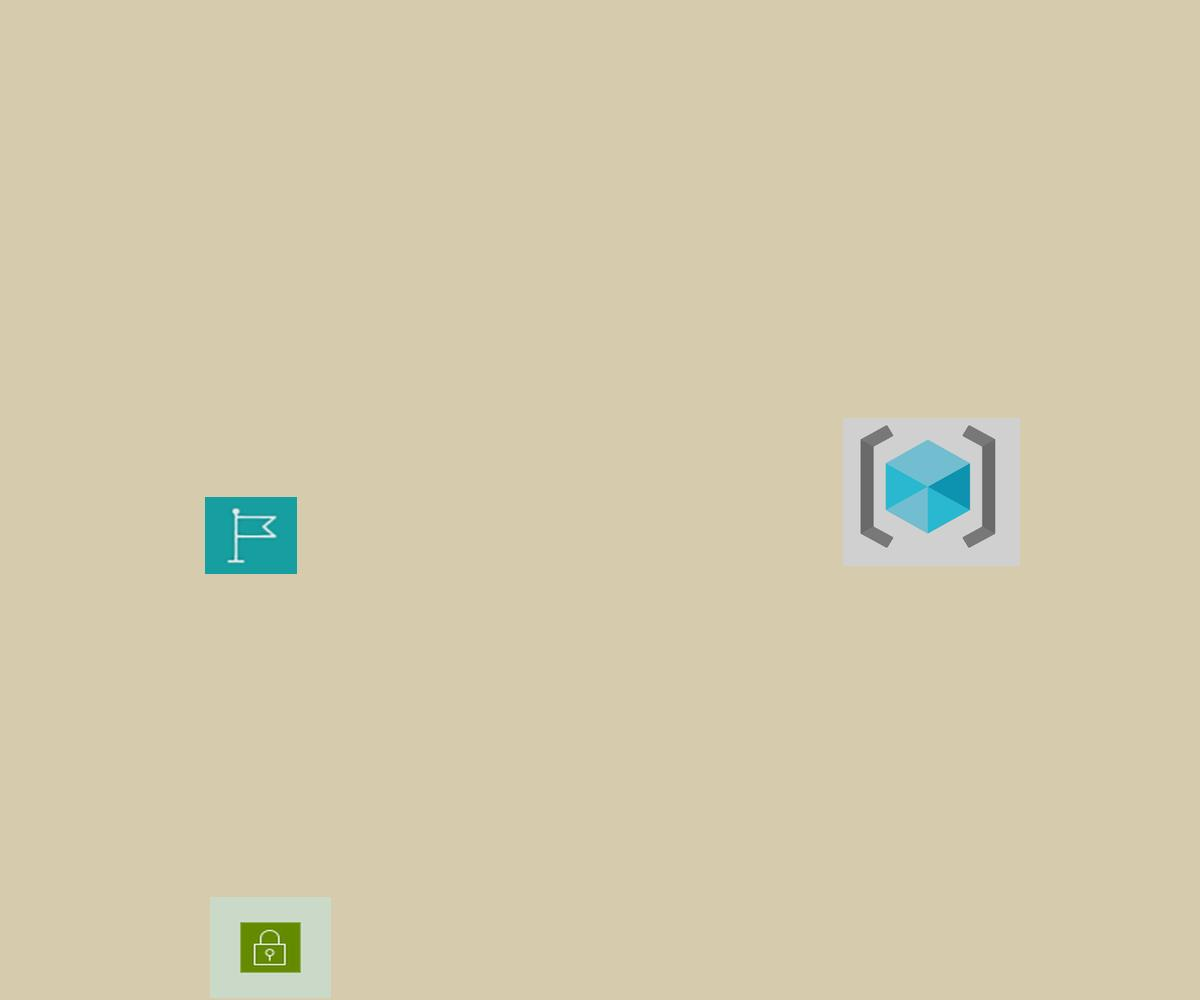AWS-Public-subnet: (210, 897, 331, 998)
AWS-Region: (205, 497, 297, 574)
Azure_resource_group: (843, 418, 1020, 566)
